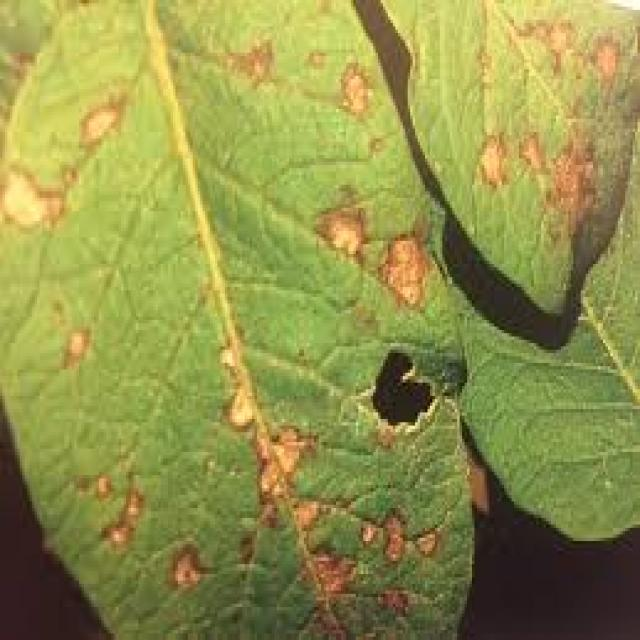bercak_daun: (176, 286, 468, 636)
